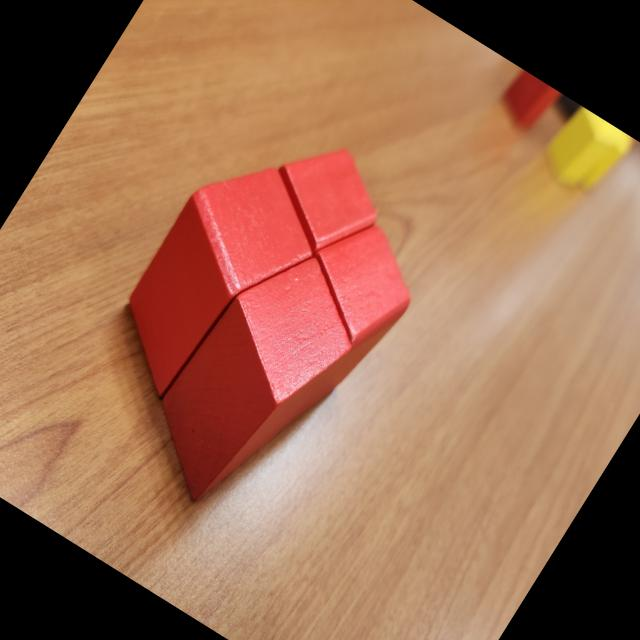red: (123, 227, 383, 531), (89, 136, 342, 428), (222, 203, 436, 455), (250, 125, 399, 274), (490, 66, 560, 136)
yellow: (531, 100, 621, 196), (579, 127, 634, 196)
